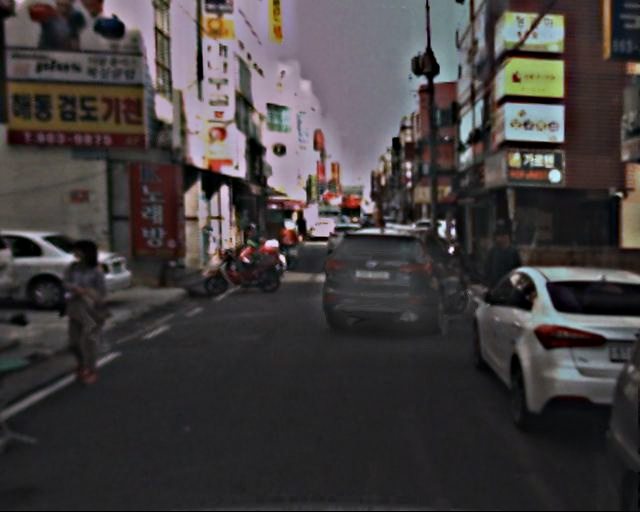person: (56, 233, 129, 384), (482, 223, 530, 340)
